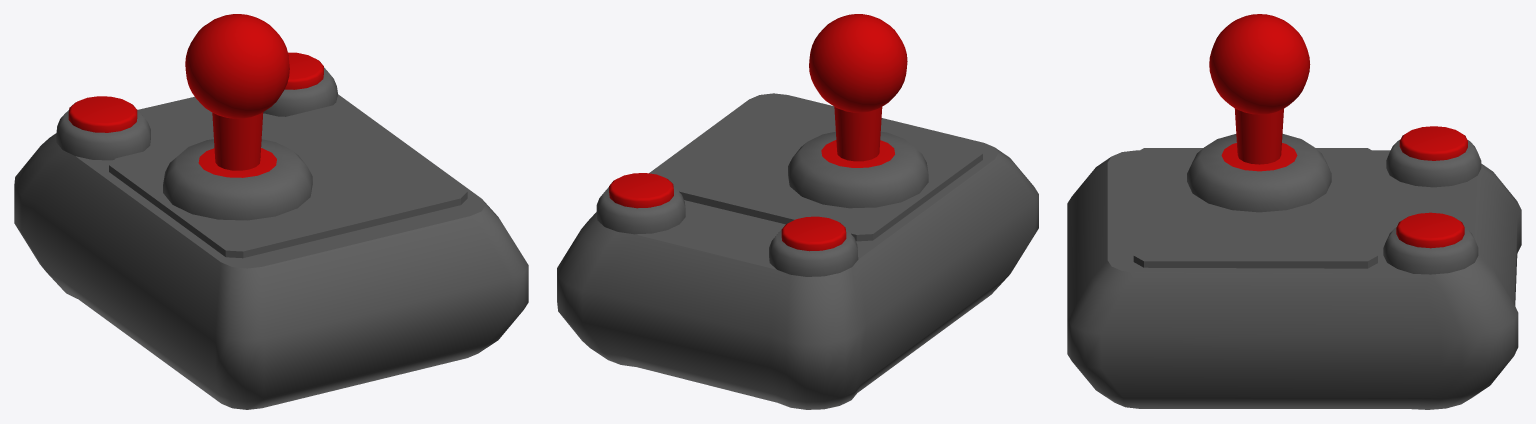
Rendered from Joystick.fbx.
3 renders of one model, left to right at view 1: azimuth 30°, elevation 25°; view 2: azimuth 150°, elevation 25°; view 3: azimuth 270°, elevation 25°, orthographic. The views are drawn at different scales.
Parts seen in each view (by area): view 1: Joystick; view 2: Joystick; view 3: Joystick.
Part boxes in pixels (x1,y1,x2,y2): Joystick: [14, 14, 528, 409]; Joystick: [557, 14, 1038, 409]; Joystick: [1067, 14, 1521, 409].
Bounding box in the file's own units: 9.67 × 9.36 × 12.56.
